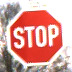stopsign: (7, 8, 66, 66)
